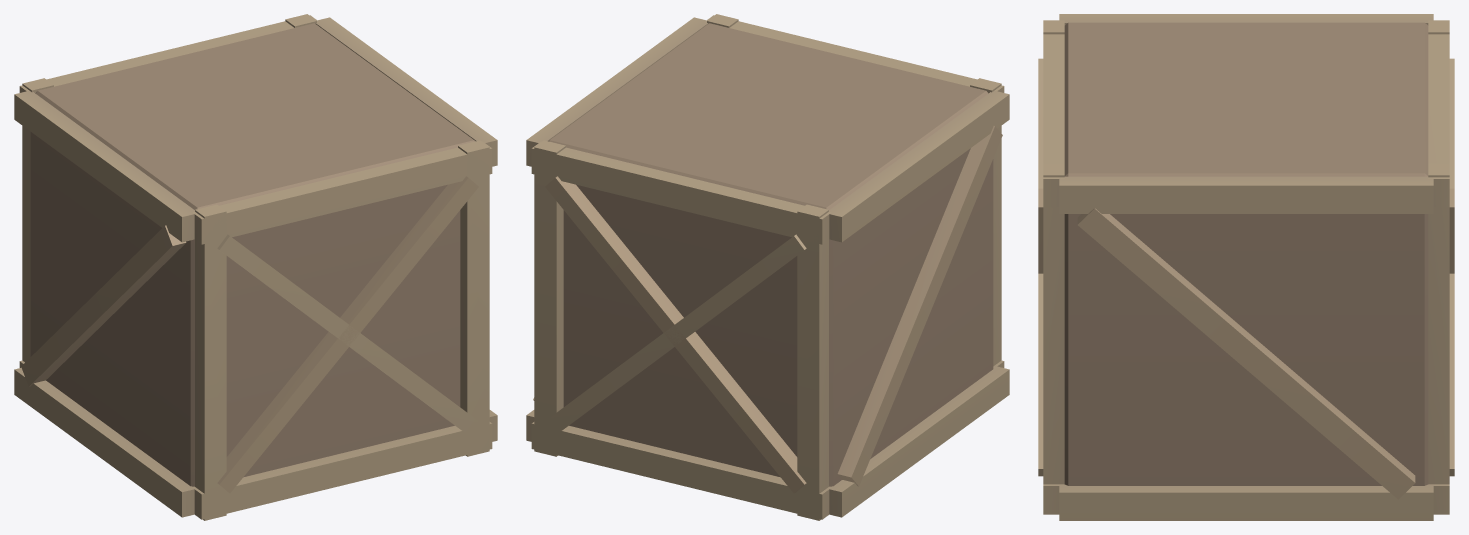
The model's file is SH_Crate.glb.
3 views of the same model, side by side, from view 1: azimuth 30°, elevation 25°; view 2: azimuth 150°, elevation 25°; view 3: azimuth 270°, elevation 25° (orthographic). The views are drawn at different scales.
Parts seen in each view (by area): view 1: Body; view 2: Body; view 3: Body.
Part boxes in pixels (x1,y1,x2,y2): Body: [14, 14, 497, 520]; Body: [526, 14, 1009, 520]; Body: [1038, 14, 1454, 520].
Bounding box in the file's own units: 4.6 × 4.2 × 4.67.
